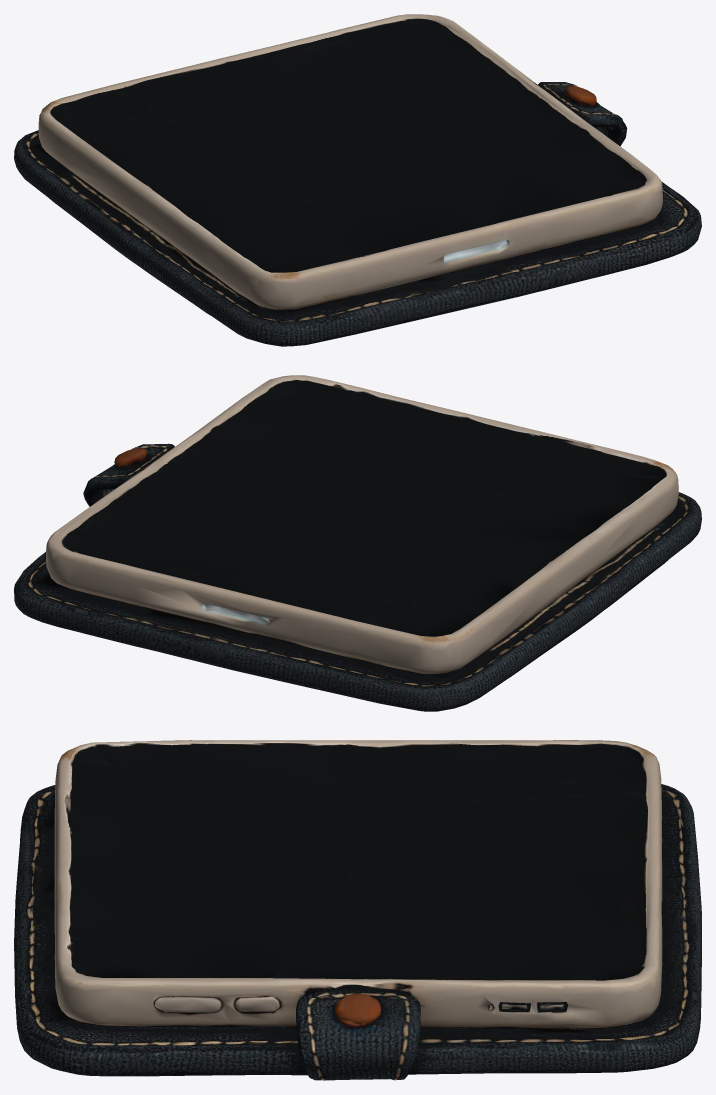
Rendered from slate.high.glb.
3 views of the same model, one above another, from view 1: azimuth 30°, elevation 25°; view 2: azimuth 150°, elevation 25°; view 3: azimuth 270°, elevation 25° (orthographic). The views are drawn at different scales.
Visible parts, largest first — view 1: tripo_node_06b091ca-d2d3-42b4-b872-ccc9c1d0f15d; view 2: tripo_node_06b091ca-d2d3-42b4-b872-ccc9c1d0f15d; view 3: tripo_node_06b091ca-d2d3-42b4-b872-ccc9c1d0f15d.
Part boxes in pixels (left/top/right/bottom): tripo_node_06b091ca-d2d3-42b4-b872-ccc9c1d0f15d: left=14, top=14, right=701, bottom=346; tripo_node_06b091ca-d2d3-42b4-b872-ccc9c1d0f15d: left=14, top=375, right=701, bottom=711; tripo_node_06b091ca-d2d3-42b4-b872-ccc9c1d0f15d: left=14, top=740, right=701, bottom=1080.
Bounding box in the file's own units: 0.2999 × 0.0432 × 0.2993.
1 material, 1 textured.
